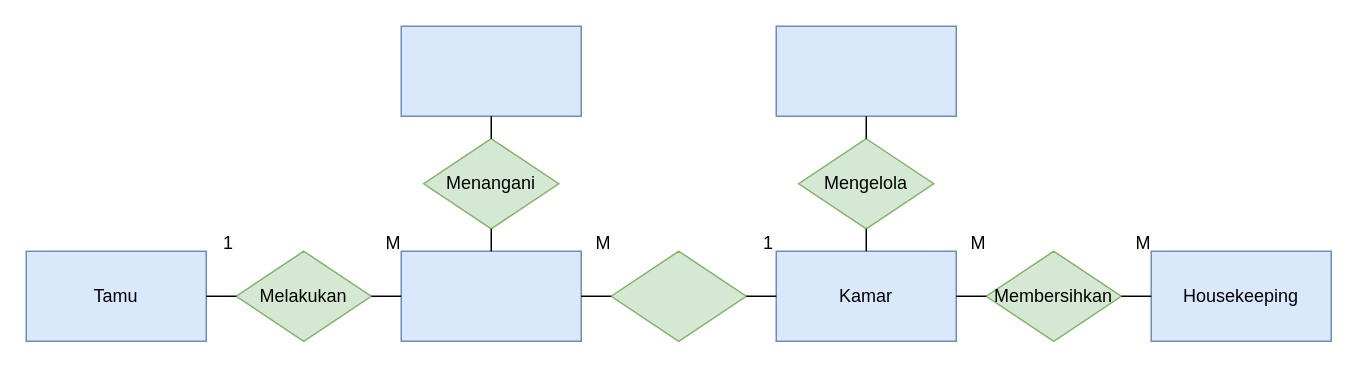
The diagram is 1358 pixels wide and 368 high, and some of its shapes have lost their labels. Here are the shapes that lost their labels. From the top down, the centre of each, then its label:
the point at 490,70: Resepsionis
the point at 865,70: Administrator
the point at 490,295: Reservasi
the point at 678,295: Memesan
